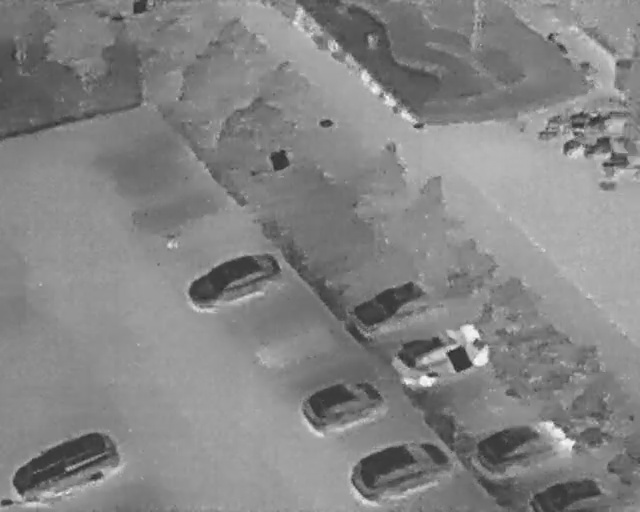Bicycle: (527, 476, 613, 511), (544, 27, 573, 61), (559, 133, 592, 159), (580, 135, 613, 158), (602, 154, 630, 175), (585, 111, 612, 130), (536, 126, 559, 142), (546, 113, 567, 129), (571, 112, 592, 124), (571, 121, 587, 129)
Car: (3, 420, 129, 510), (384, 308, 494, 402), (343, 426, 457, 511), (470, 405, 577, 485), (182, 241, 289, 317), (293, 368, 392, 443), (343, 269, 437, 343)
